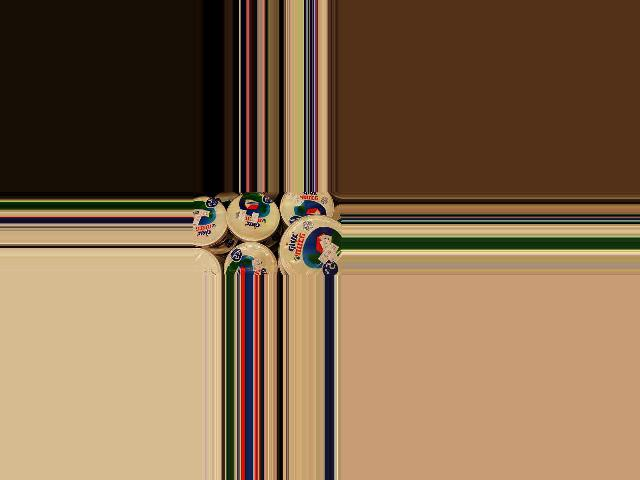cotage: (275, 192, 334, 226)
